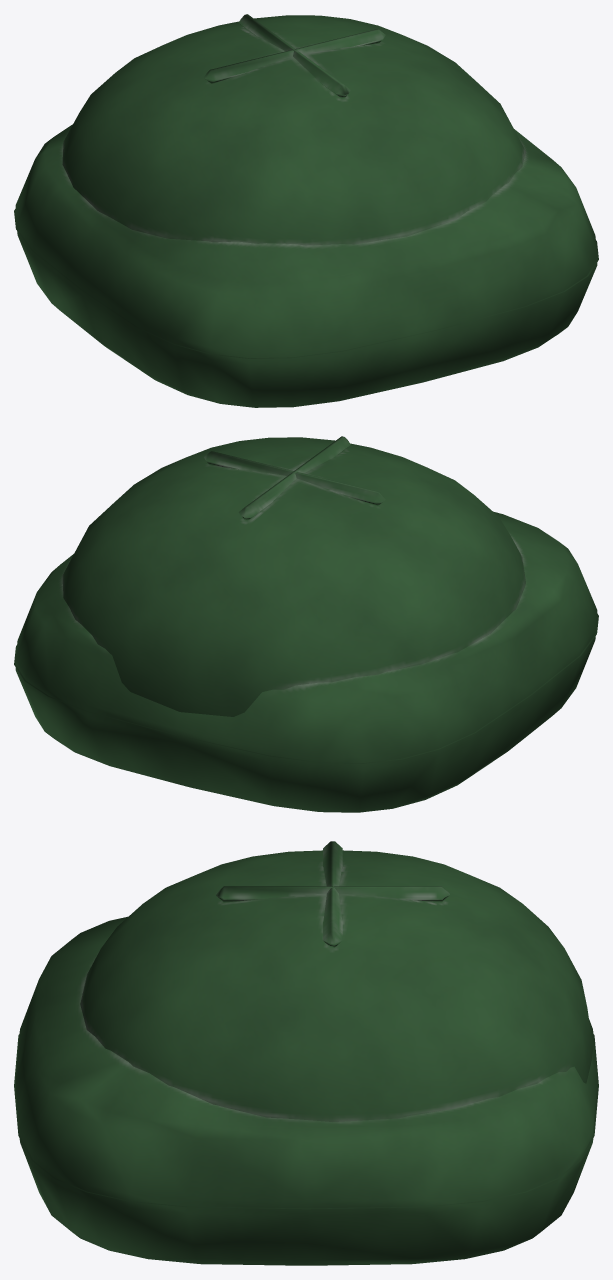
The model's file is Maton_Gorro_Verde.fbx.
3 renders of one model, top to bottom at view 1: azimuth 30°, elevation 25°; view 2: azimuth 150°, elevation 25°; view 3: azimuth 270°, elevation 25°, orthographic. The views are drawn at different scales.
Parts seen in each view (by area): view 1: Maton_Gorro_Verde; view 2: Maton_Gorro_Verde; view 3: Maton_Gorro_Verde.
Part boxes in pixels (x1,y1,x2,y2): Maton_Gorro_Verde: (14,14,598,407); Maton_Gorro_Verde: (14,436,598,812); Maton_Gorro_Verde: (14,841,598,1265).
Size of the model in its own units: 1.58 by 0.9552 by 1.58.
